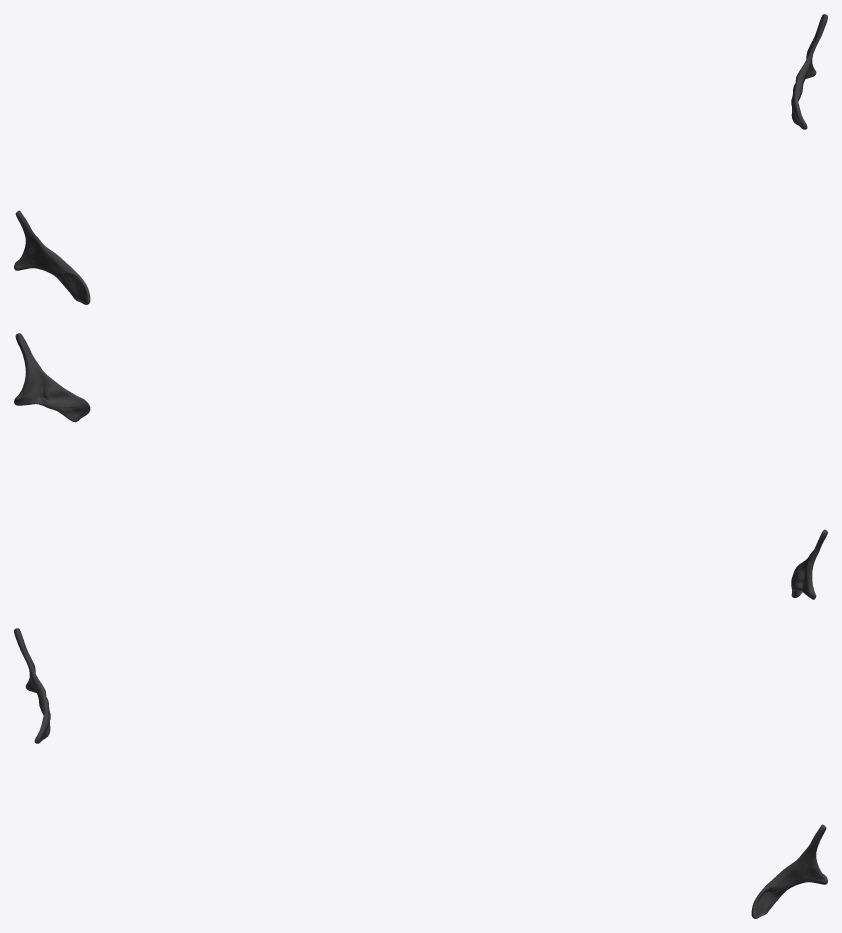
The model's file is tear_fluid_1.glb.
3 views of the same model, one above another, from view 1: azimuth 30°, elevation 25°; view 2: azimuth 150°, elevation 25°; view 3: azimuth 330°, elevation 25° (orthographic).
Visible parts, largest first — view 1: tear_fluid_1; view 2: tear_fluid_1; view 3: tear_fluid_1.
Part boxes in pixels (x1=…): tear_fluid_1: x1=14, y1=14, x2=827, y2=304; tear_fluid_1: x1=14, y1=333, x2=827, y2=599; tear_fluid_1: x1=14, y1=628, x2=827, y2=918.
Size of the model in its own units: 19.41 by 2.03 by 1.42.
Materials: 1 (1 with a texture image).
